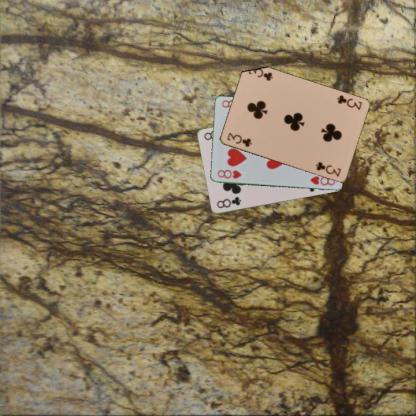3c: (334, 92, 363, 112), (224, 130, 253, 148)
8c: (214, 194, 243, 210)
8h: (216, 168, 243, 180)
